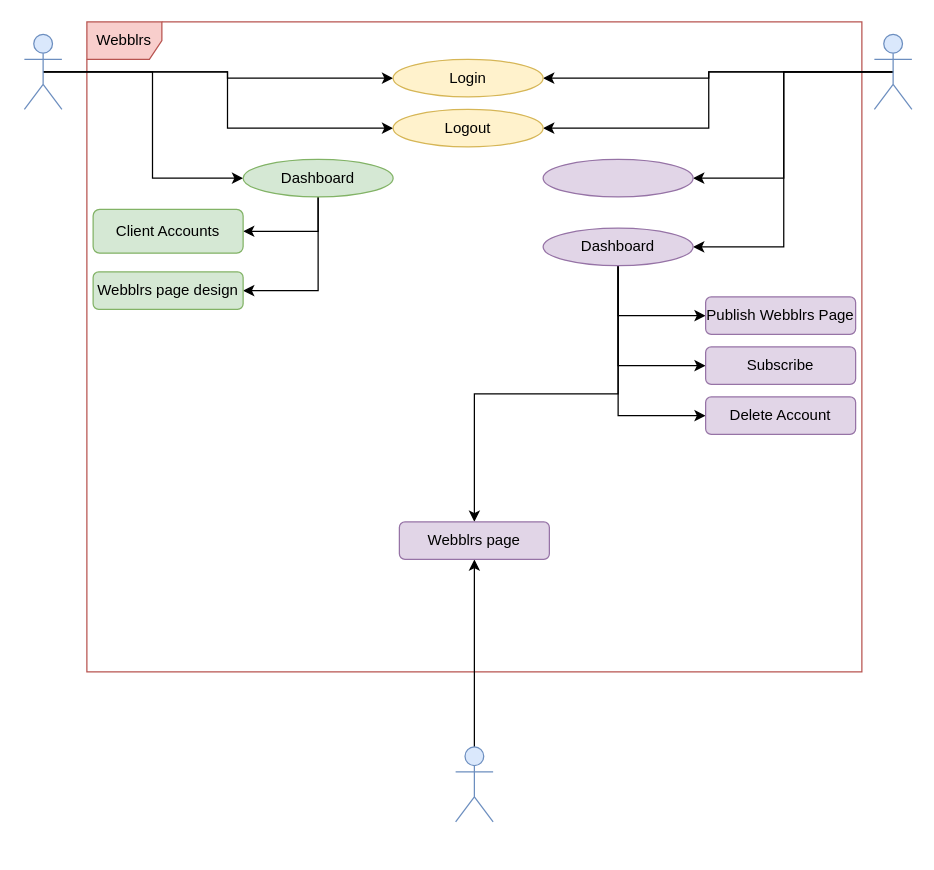
The diagram is 934 pixels wide and 870 high, and some of its shapes have lost their labels. Here are the shapes that lost their labels. From the top down, the centre of each, then its label:
At point 42,71: "Admin".
At point 892,71: "Client".
At point 617,177: "Signup".
At point 473,784: "Visitor".
